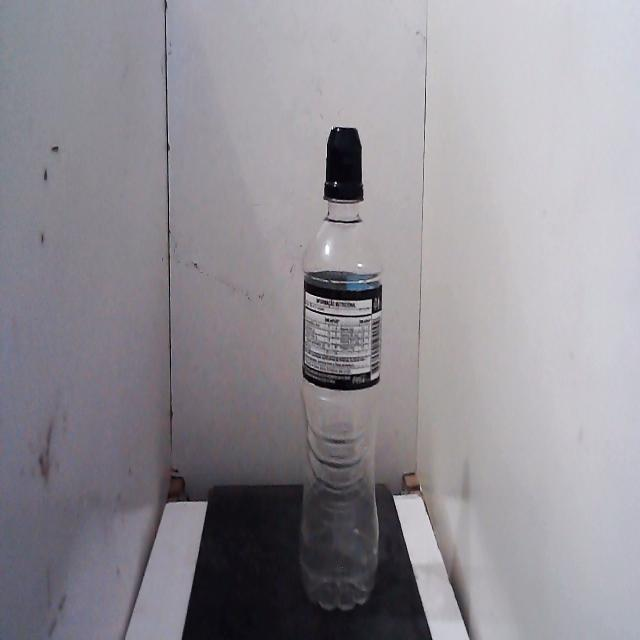plastico: (291, 108, 393, 630)
